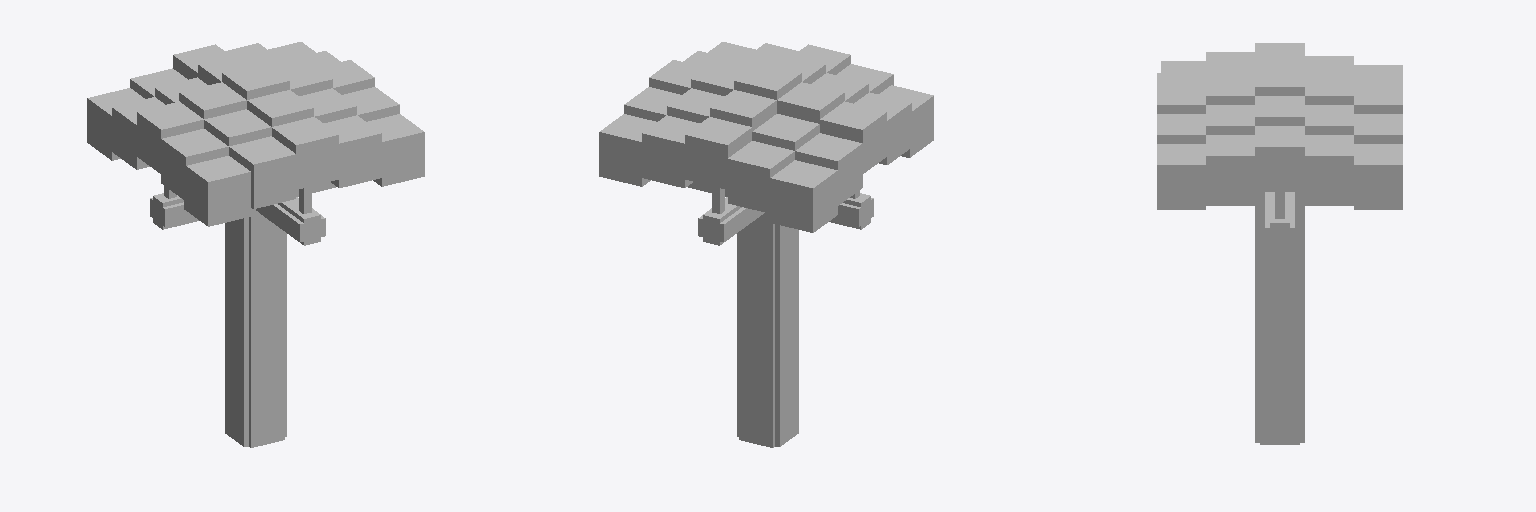
File: Plants-7-Big Tree.obj
3 renders of one model, left to right at view 1: azimuth 30°, elevation 25°; view 2: azimuth 150°, elevation 25°; view 3: azimuth 270°, elevation 25°, orthographic.
Parts seen in each view (by area): view 1: Big Tree; view 2: Big Tree; view 3: Big Tree.
Part boxes in pixels (x1,y1,x2,y2): Big Tree: (87,42,424,447); Big Tree: (599,42,933,447); Big Tree: (1157,43,1402,444).
Bounding box in the file's own units: 5 × 8 × 5.